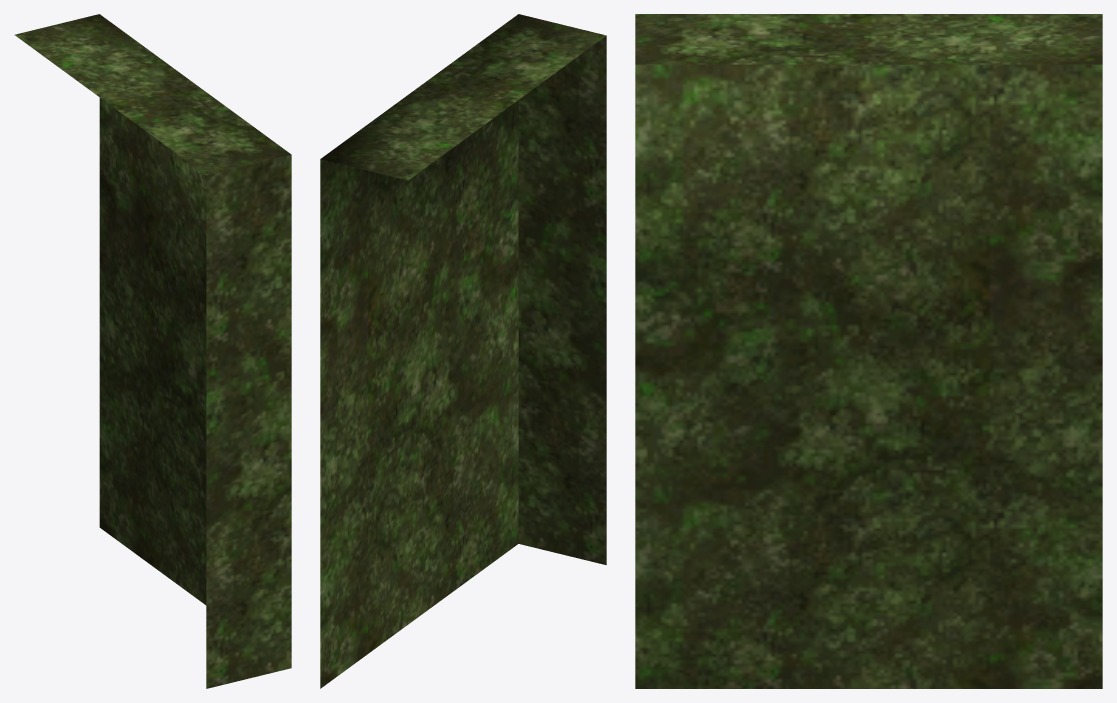
The model's file is OVERHILL_A_01_OBJECT91.fbx.
The picture shows the model from 3 angles, left to right: view 1: azimuth 30°, elevation 25°; view 2: azimuth 150°, elevation 25°; view 3: azimuth 270°, elevation 25°; orthographic projection. The views are drawn at different scales.
Visible parts, largest first — view 1: OVERHILL_A_01_OBJECT91; view 2: OVERHILL_A_01_OBJECT91; view 3: OVERHILL_A_01_OBJECT91.
Part boxes in pixels (x1,y1,x2,y2): OVERHILL_A_01_OBJECT91: [14, 14, 291, 688]; OVERHILL_A_01_OBJECT91: [320, 14, 606, 688]; OVERHILL_A_01_OBJECT91: [635, 14, 1102, 688].
Bounding box in the file's own units: 8371 × 48105 × 32637.
1 material, 1 textured.
